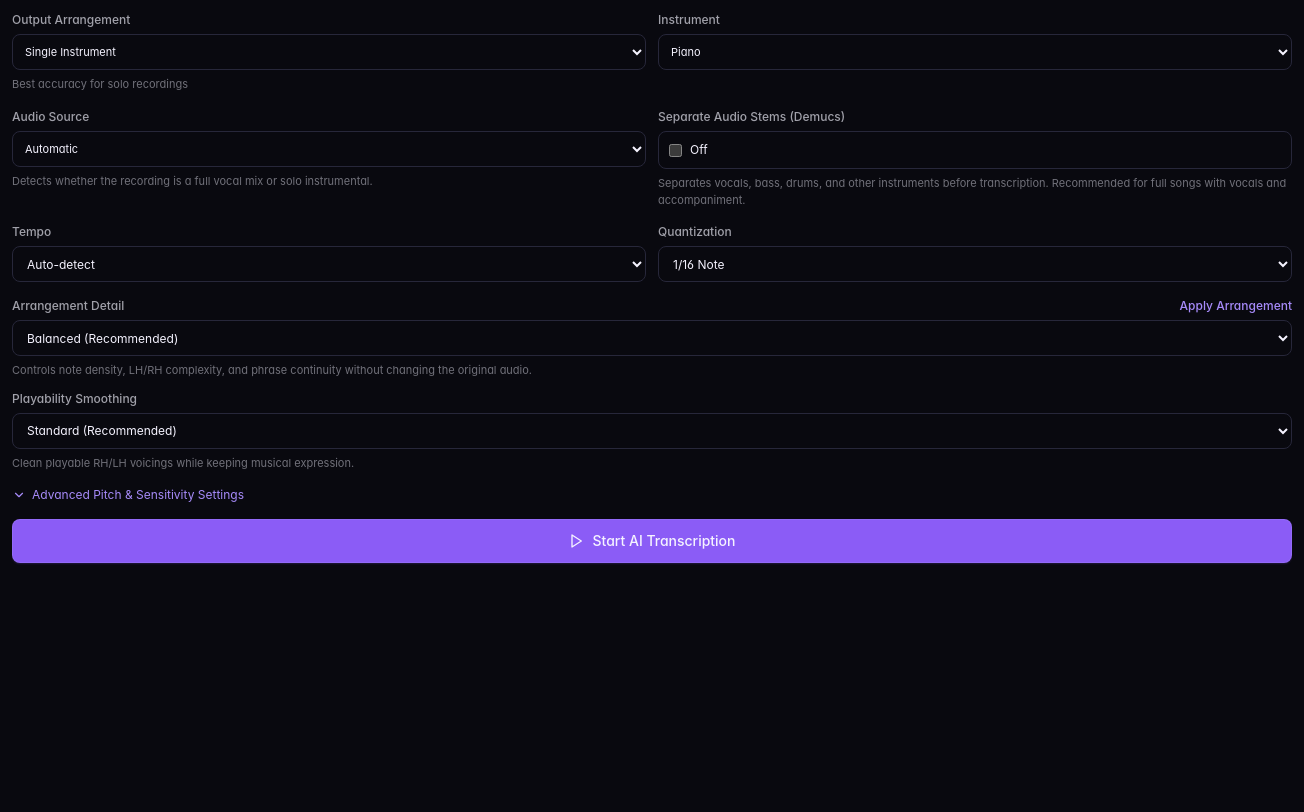
Scenario: TranscriptionConfigPanel Arrangement Detail & Quantization › switches to Re-Transcribe in Lead Melody Mode and disables Apply Arrangement when mode changes
Later steps or results of the test are not shown.
Step 1. Select "Lead Melody" in the dropdown showing "Single Instrument" → (329, 52), box [12, 34, 646, 70]
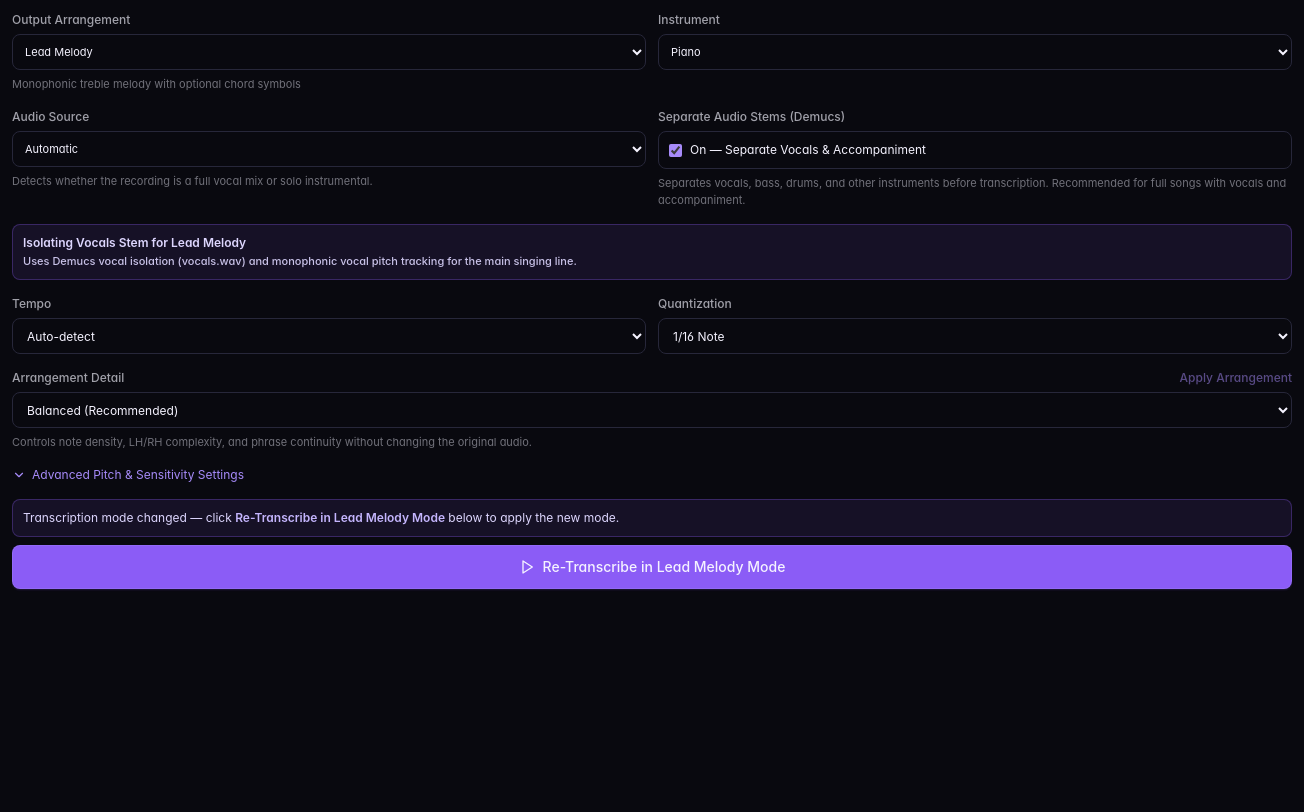
Result: the button "Apply Arrangement" is disabled at [1180, 370, 1292, 386]
